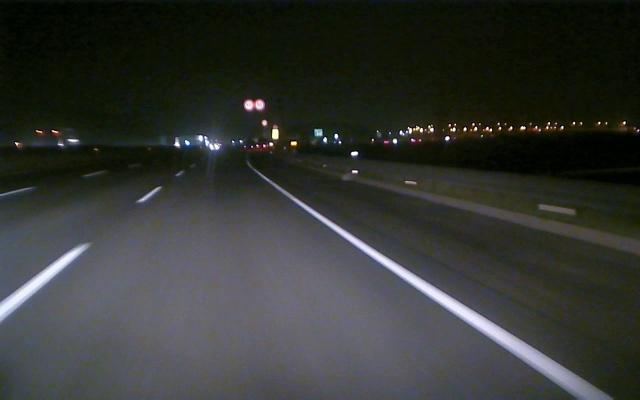lane: (260, 175, 611, 396), (1, 188, 158, 321), (0, 170, 108, 197)
